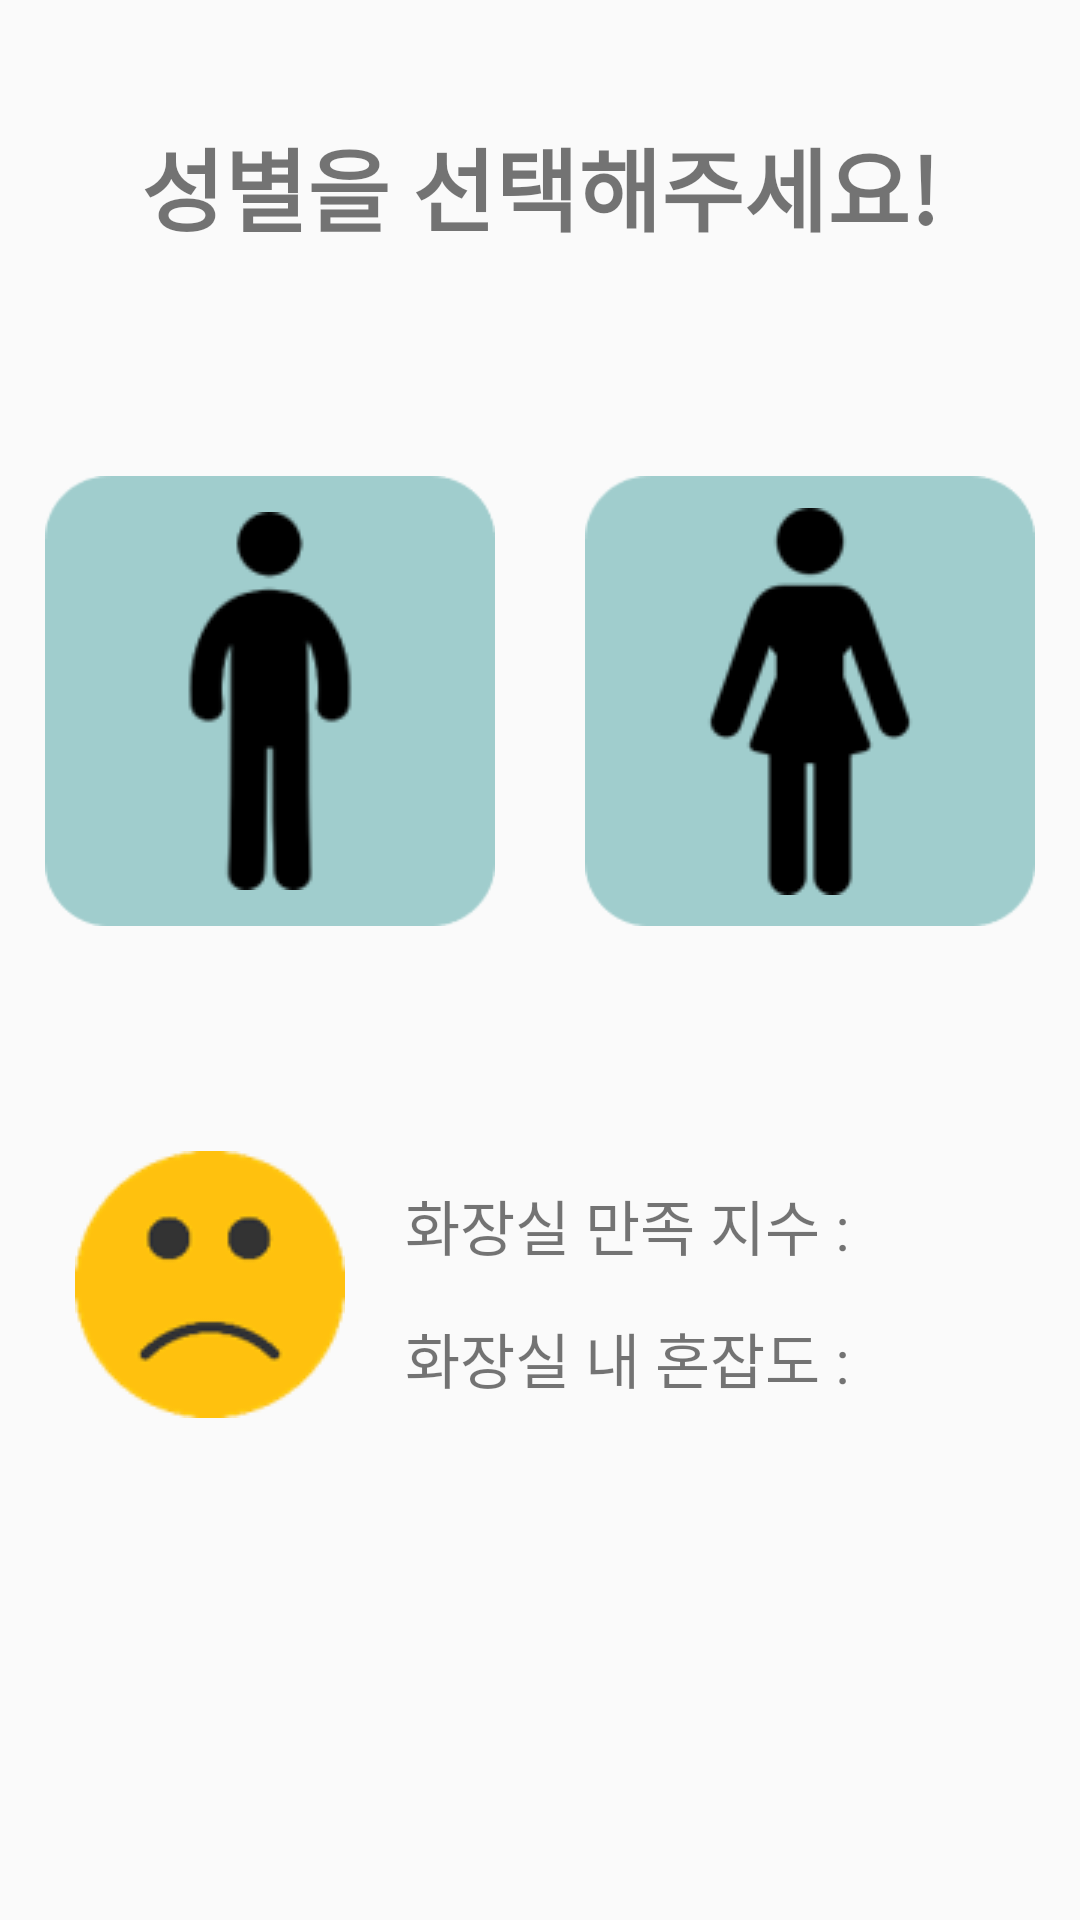

Icons on this 1080w x 1920h Android screen, each with its box as (x1, y1, x2, y2):
face: (75, 1151, 345, 1418)
